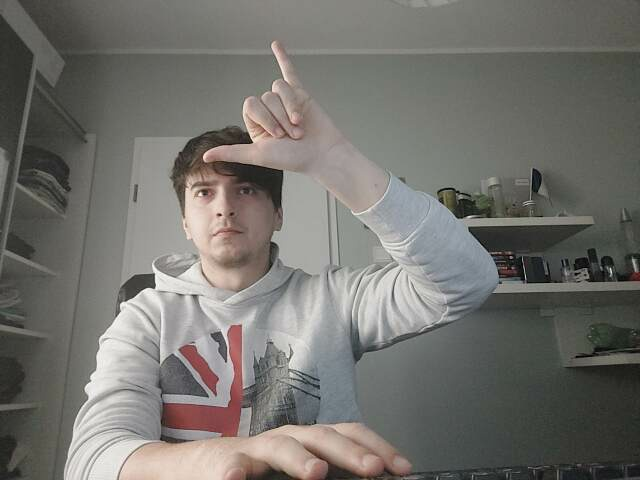play: (203, 39, 326, 167)
